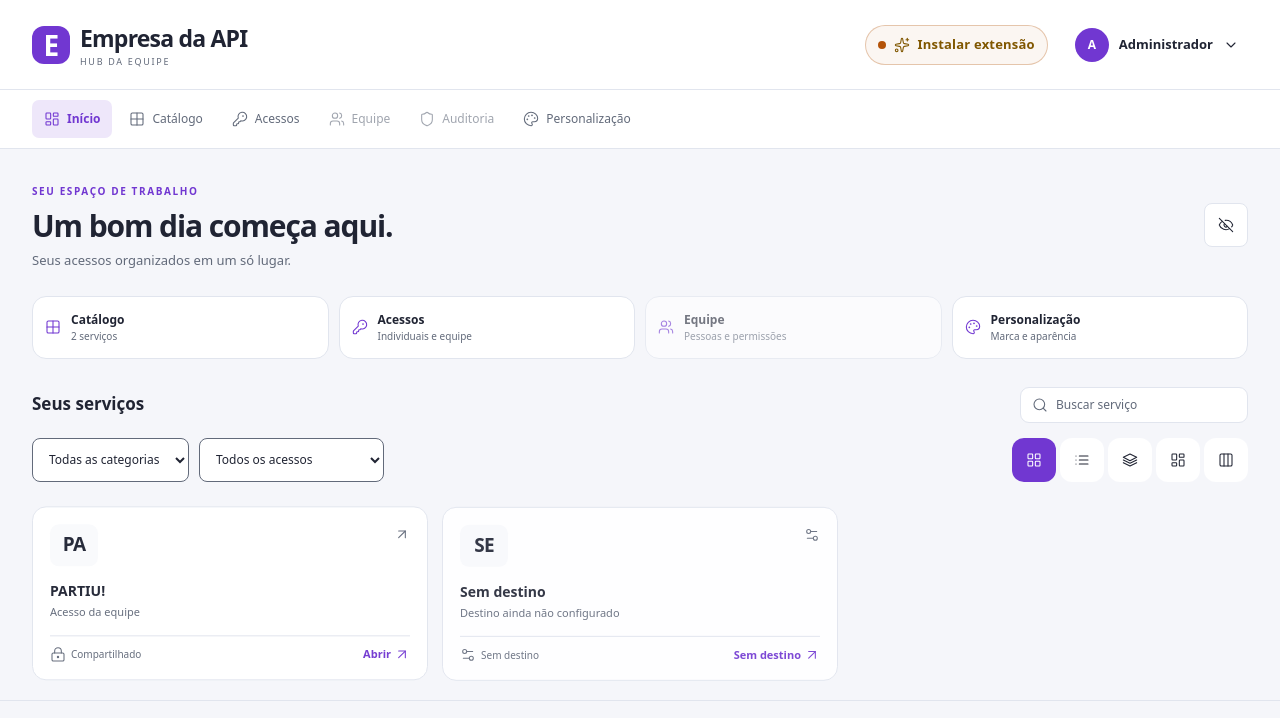
Test: API backed customization › does not offer vault service creation to an attendant
Expected: the text "Empresa da API" is shown, [80,22,247,54]
What coordinates should you click on to do the following:
click the button "Acessos"
I would click on:
 (266, 119)
Its box is [220,100,312,138].
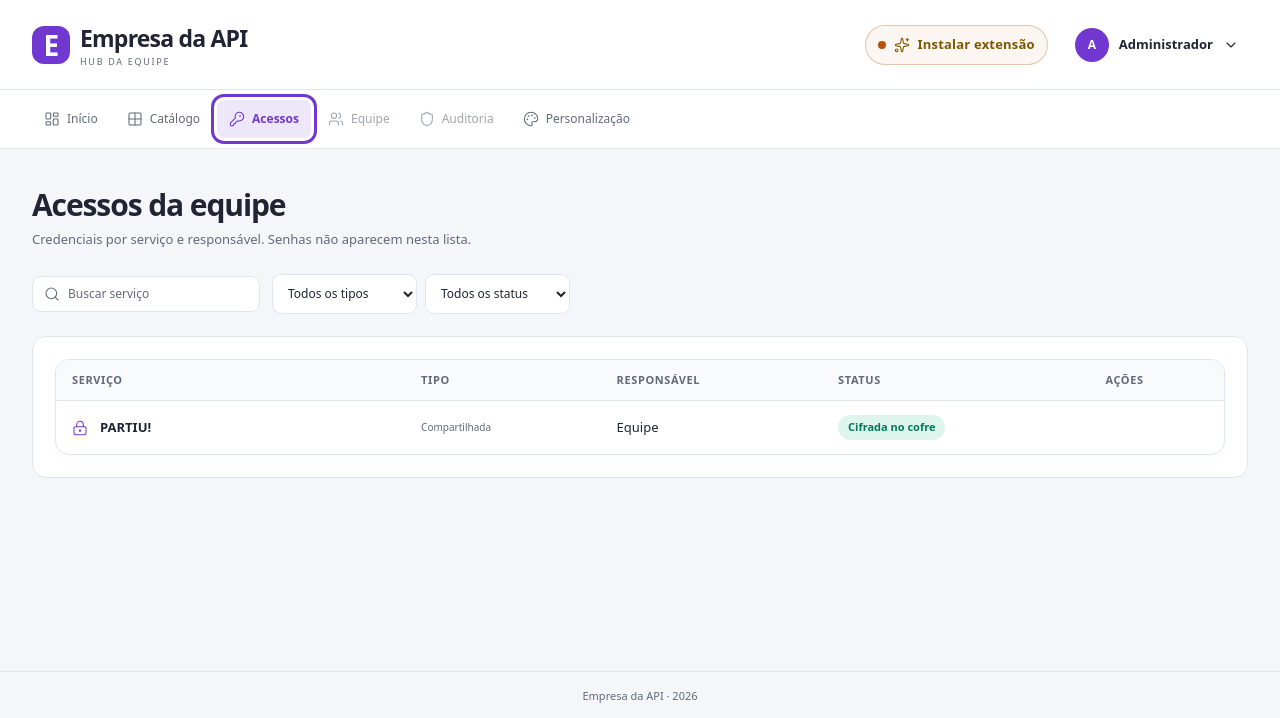
Expected: the heading "Acessos da equipe" is shown, [32,184,286,225]
